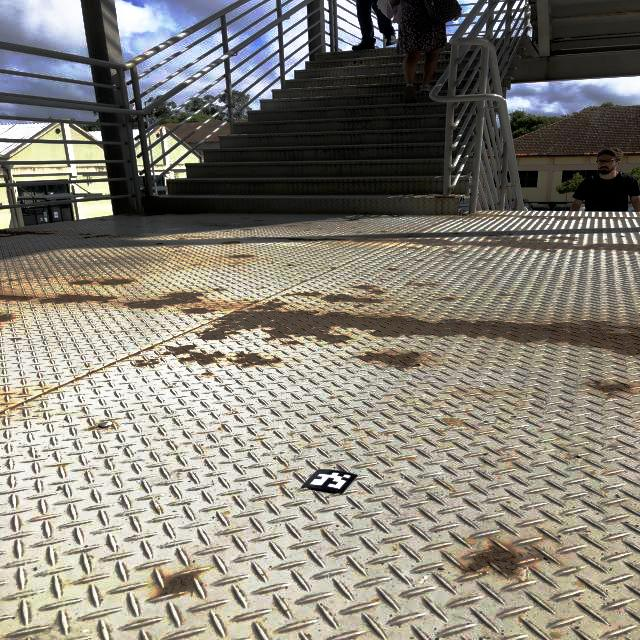Corrosion: (196, 298, 640, 355), (353, 235, 640, 253), (465, 545, 523, 578), (161, 344, 225, 365), (124, 292, 202, 308), (356, 352, 421, 370), (493, 215, 640, 221), (160, 572, 196, 596), (587, 381, 633, 398), (230, 352, 281, 367), (39, 294, 115, 304), (322, 294, 382, 303), (133, 211, 218, 217), (248, 237, 350, 242), (0, 229, 52, 237), (352, 285, 385, 294), (128, 345, 155, 356), (131, 358, 159, 368), (182, 307, 221, 314), (96, 278, 135, 285), (284, 291, 321, 297), (405, 281, 439, 287), (0, 295, 32, 301), (79, 233, 117, 238), (68, 279, 92, 285), (0, 313, 14, 323), (549, 236, 579, 240), (227, 254, 254, 258), (282, 340, 303, 345), (437, 297, 457, 302), (200, 371, 215, 377), (219, 240, 241, 244), (353, 304, 365, 308), (344, 218, 360, 221), (498, 293, 513, 296), (239, 228, 253, 231), (446, 251, 459, 254), (214, 288, 225, 291), (6, 278, 17, 281), (154, 242, 165, 245), (176, 237, 186, 240), (285, 225, 298, 227), (414, 259, 425, 261), (330, 267, 337, 270), (301, 222, 311, 224), (358, 61, 363, 65), (388, 268, 397, 270), (353, 61, 357, 64), (401, 246, 407, 248), (412, 247, 418, 249), (379, 279, 386, 280), (380, 231, 386, 232)
